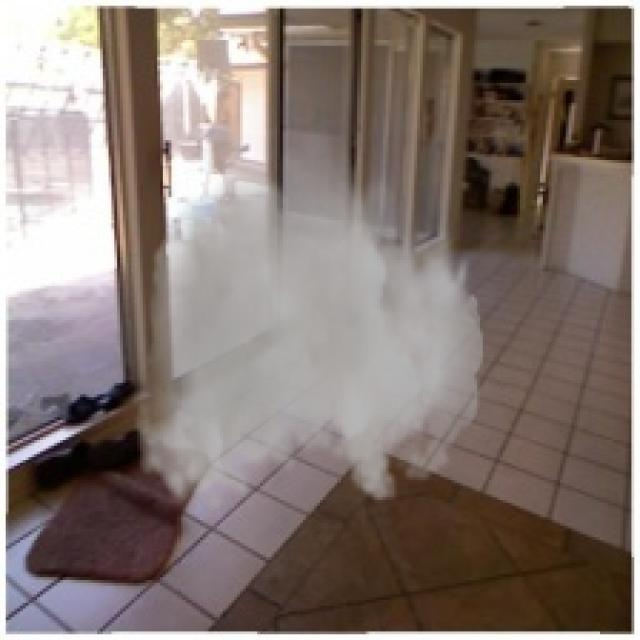smoke: (134, 120, 483, 514)
